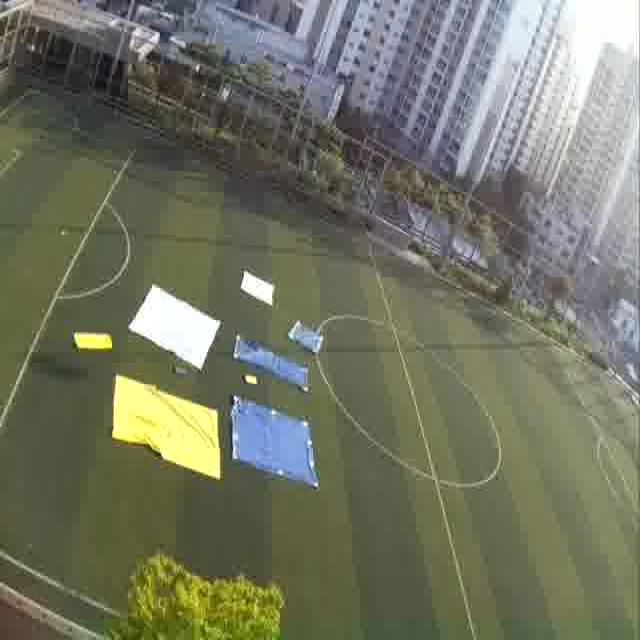danger: (229, 392, 326, 496), (235, 334, 284, 376), (288, 316, 326, 358)
safety: (126, 281, 226, 369), (237, 264, 280, 317)
warning: (112, 369, 224, 484), (69, 324, 117, 366)
